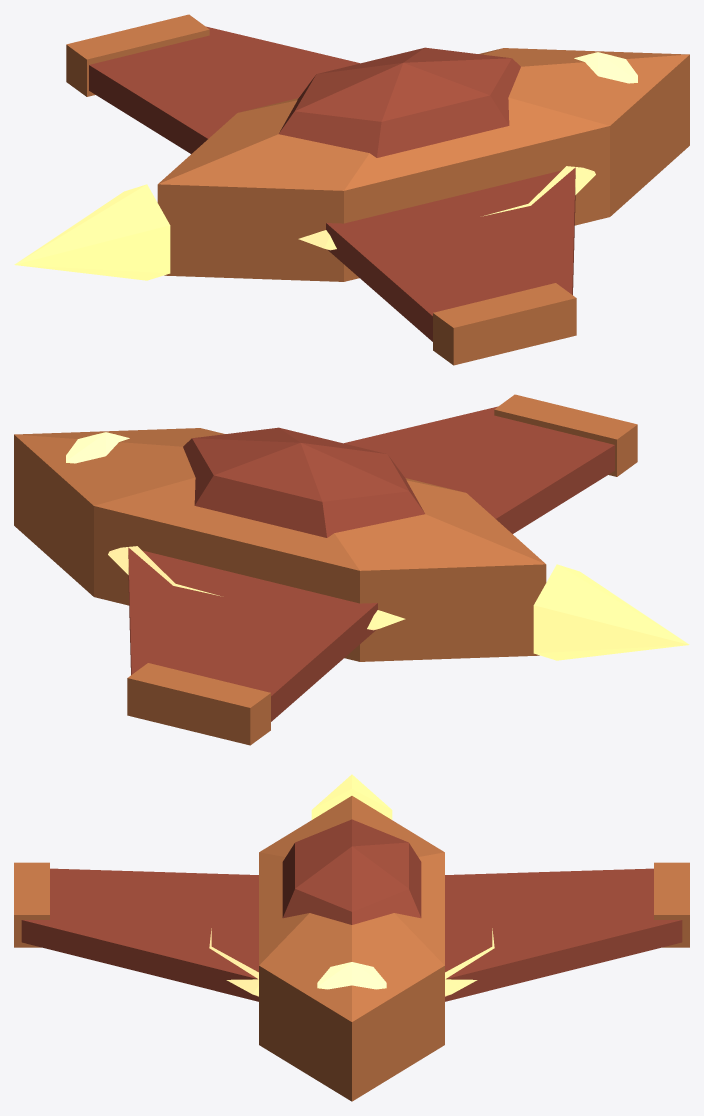
File: enemy_scout.glb
3 views of the same model, one above another, from view 1: azimuth 30°, elevation 25°; view 2: azimuth 150°, elevation 25°; view 3: azimuth 270°, elevation 25° (orthographic). The views are drawn at different scales.
Parts seen in each view (by area): view 1: Hull, GlowEngine, GlowSpin, GlowEye; view 2: Hull, GlowEngine, GlowSpin, GlowEye; view 3: Hull, GlowEye, GlowEngine, GlowSpin.
Boxes of the visible parts, x1,y1,x2,y2 form: Hull: [66, 14, 689, 365]; GlowEngine: [14, 184, 170, 280]; GlowSpin: [298, 166, 595, 250]; GlowEye: [574, 52, 637, 83]; Hull: [14, 394, 637, 745]; GlowEngine: [533, 564, 689, 660]; GlowSpin: [108, 546, 405, 630]; GlowEye: [66, 432, 129, 463]; Hull: [14, 796, 689, 1101]; GlowEye: [317, 962, 386, 989]; GlowEngine: [311, 774, 392, 819]; GlowSpin: [209, 928, 494, 996].
Bounding box in the file's own units: 0.6598 × 0.185 × 0.655.
